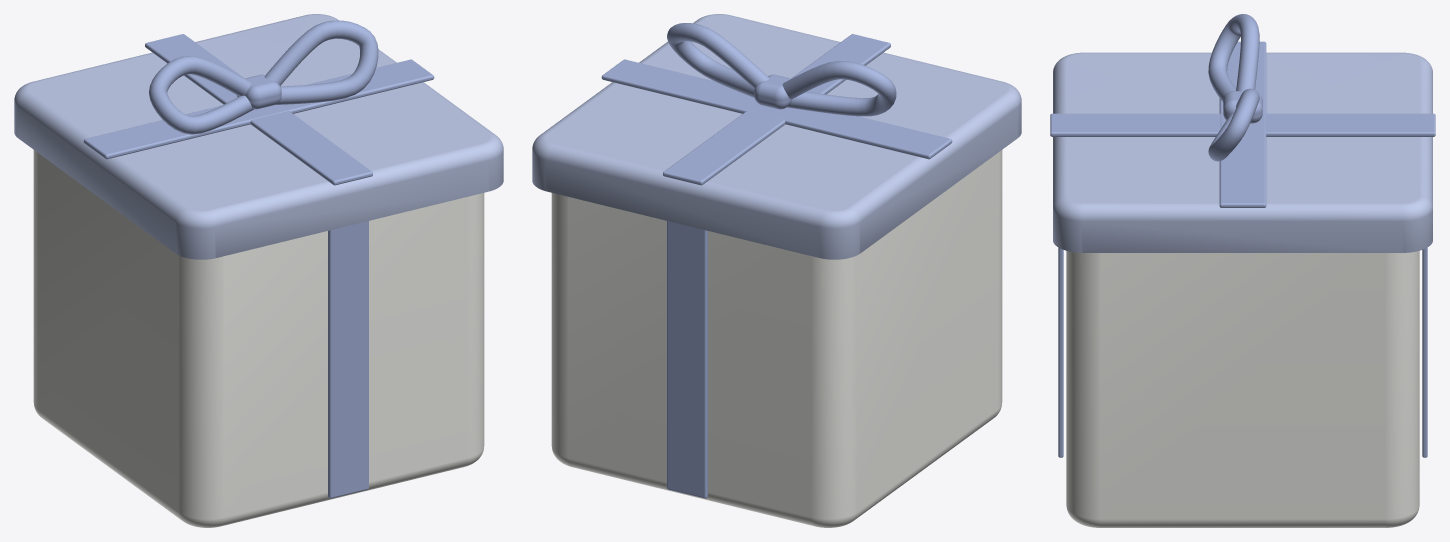
Rendered from ribbon-gift.glb.
3 renders of one model, left to right at view 1: azimuth 30°, elevation 25°; view 2: azimuth 150°, elevation 25°; view 3: azimuth 270°, elevation 25°, orthographic.
Visible parts, largest first — view 1: hollow-rounded-housing, fitted-rounded-cover, satin-ribbon-006, lid-with-attached-bow-007, lid-with-attached-bow-008, lid-with-attached-bow-010, lid-with-attached-bow-009, lid-with-attached-bow-011; view 2: hollow-rounded-housing, fitted-rounded-cover, satin-ribbon-005, lid-with-attached-bow-008, lid-with-attached-bow-007, lid-with-attached-bow-009, lid-with-attached-bow-010, lid-with-attached-bow-011; view 3: hollow-rounded-housing, fitted-rounded-cover, lid-with-attached-bow-007, lid-with-attached-bow-008, lid-with-attached-bow-009, lid-with-attached-bow-010, satin-ribbon-005, satin-ribbon-006, lid-with-attached-bow-011.
Part boxes in pixels (x1=…): hollow-rounded-housing: x1=33, y1=150, x2=484, y2=527; fitted-rounded-cover: x1=14, y1=14, x2=503, y2=259; satin-ribbon-006: x1=328, y1=221, x2=368, y2=498; lid-with-attached-bow-007: x1=145, y1=34, x2=372, y2=185; lid-with-attached-bow-008: x1=83, y1=59, x2=434, y2=159; lid-with-attached-bow-010: x1=264, y1=20, x2=378, y2=104; lid-with-attached-bow-009: x1=149, y1=55, x2=253, y2=134; lid-with-attached-bow-011: x1=236, y1=74, x2=281, y2=109; hollow-rounded-housing: x1=551, y1=150, x2=1002, y2=527; fitted-rounded-cover: x1=532, y1=14, x2=1021, y2=259; satin-ribbon-005: x1=667, y1=221, x2=707, y2=498; lid-with-attached-bow-008: x1=601, y1=59, x2=952, y2=159; lid-with-attached-bow-007: x1=663, y1=34, x2=890, y2=185; lid-with-attached-bow-009: x1=782, y1=61, x2=896, y2=116; lid-with-attached-bow-010: x1=667, y1=23, x2=769, y2=97; lid-with-attached-bow-011: x1=754, y1=74, x2=792, y2=109; hollow-rounded-housing: x1=1066, y1=251, x2=1419, y2=527; fitted-rounded-cover: x1=1053, y1=52, x2=1432, y2=252; lid-with-attached-bow-007: x1=1050, y1=113, x2=1435, y2=136; lid-with-attached-bow-008: x1=1219, y1=41, x2=1266, y2=207; lid-with-attached-bow-009: x1=1208, y1=14, x2=1259, y2=102; lid-with-attached-bow-010: x1=1208, y1=88, x2=1259, y2=161; satin-ribbon-005: x1=1422, y1=247, x2=1427, y2=457; satin-ribbon-006: x1=1058, y1=247, x2=1063, y2=457; lid-with-attached-bow-011: x1=1223, y1=91, x2=1262, y2=123.
Size of the model in its own units: 1.74 by 2 by 1.74.
